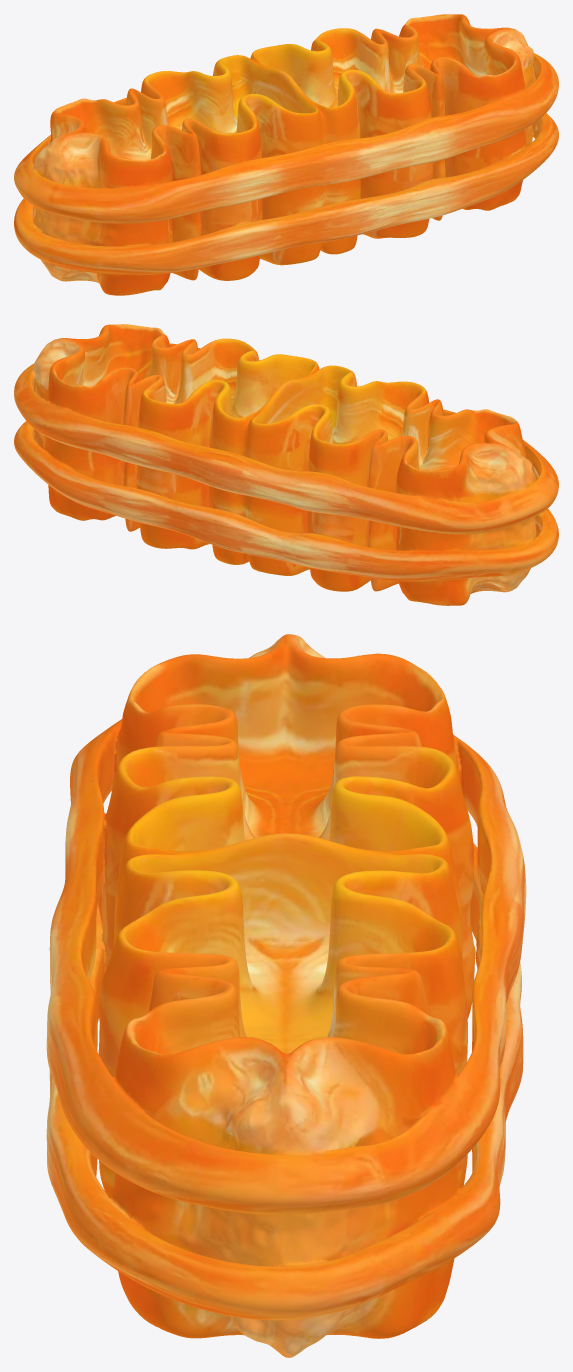
3 renders of one model, top to bottom at view 1: azimuth 30°, elevation 25°; view 2: azimuth 150°, elevation 25°; view 3: azimuth 270°, elevation 25°, orthographic. The views are drawn at different scales.
Visible parts, largest first — view 1: Mesh_0; view 2: Mesh_0; view 3: Mesh_0.
Boxes of the visible parts, x1,y1,x2,y2 form: Mesh_0: [14, 14, 558, 295]; Mesh_0: [14, 324, 558, 605]; Mesh_0: [46, 634, 526, 1357].
Bounding box in the file's own units: 1.9 × 0.5685 × 0.7534.
1 material, 1 textured.
